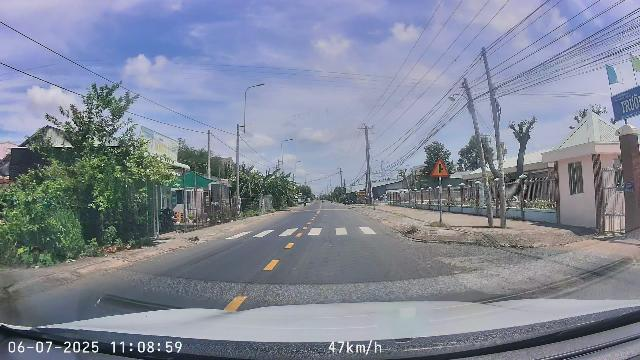207-giao-nhau-voi-duong-khong-uu-tien: (431, 158, 449, 177)
